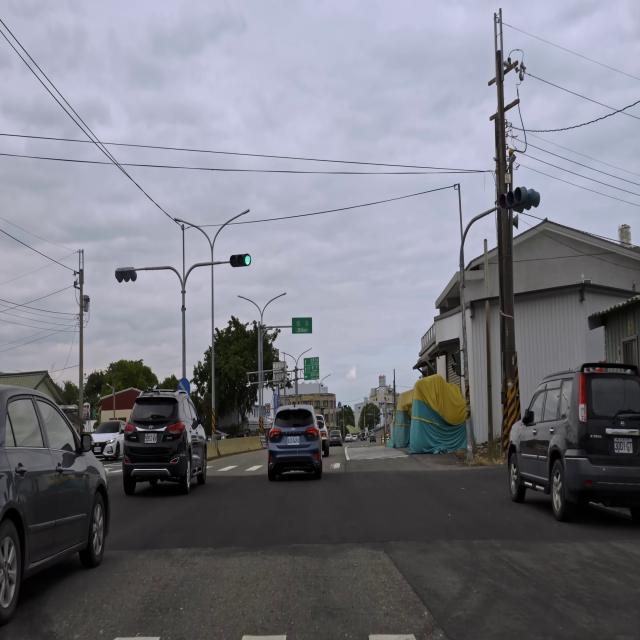green light: (229, 253, 252, 267)
